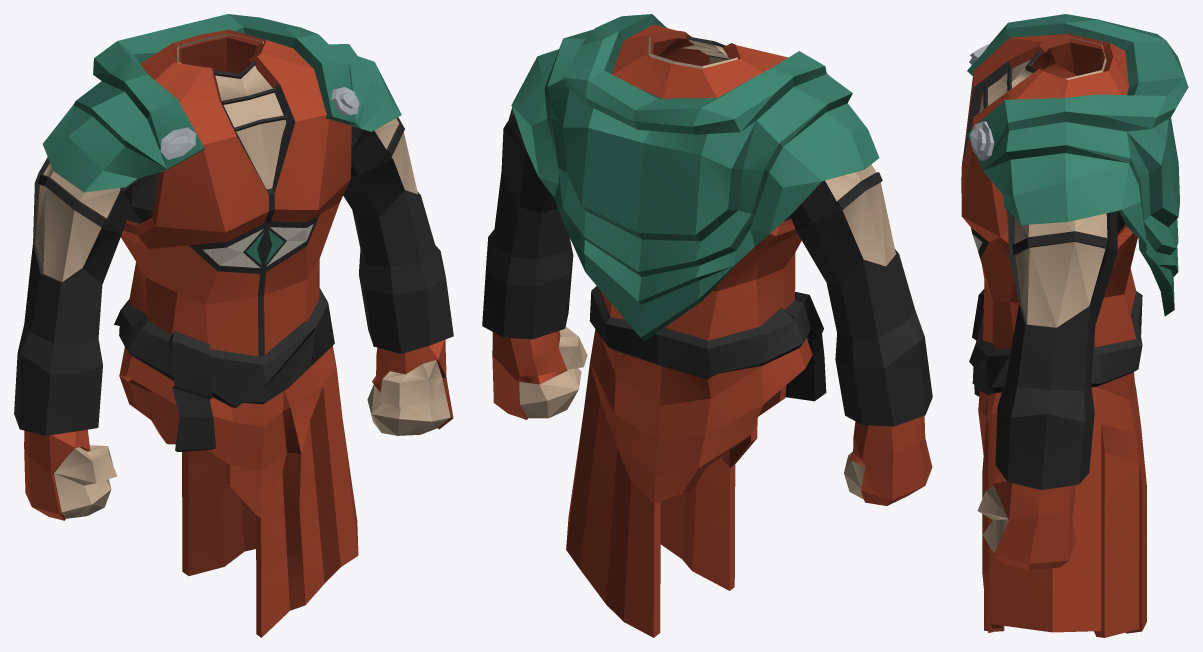
Rendered from RareNecromancerChestplate.dae.
3 views of the same model, side by side, from view 1: azimuth 30°, elevation 25°; view 2: azimuth 150°, elevation 25°; view 3: azimuth 270°, elevation 25° (orthographic). The views are drawn at different scales.
Visible parts, largest first — view 1: Chest; view 2: Chest; view 3: Chest.
Boxes of the visible parts, x1,y1,x2,y2 form: Chest: (14,14,453,637); Chest: (482,14,932,637); Chest: (961,14,1188,637).
Bounding box in the file's own units: 5.28 × 2.36 × 6.58.
